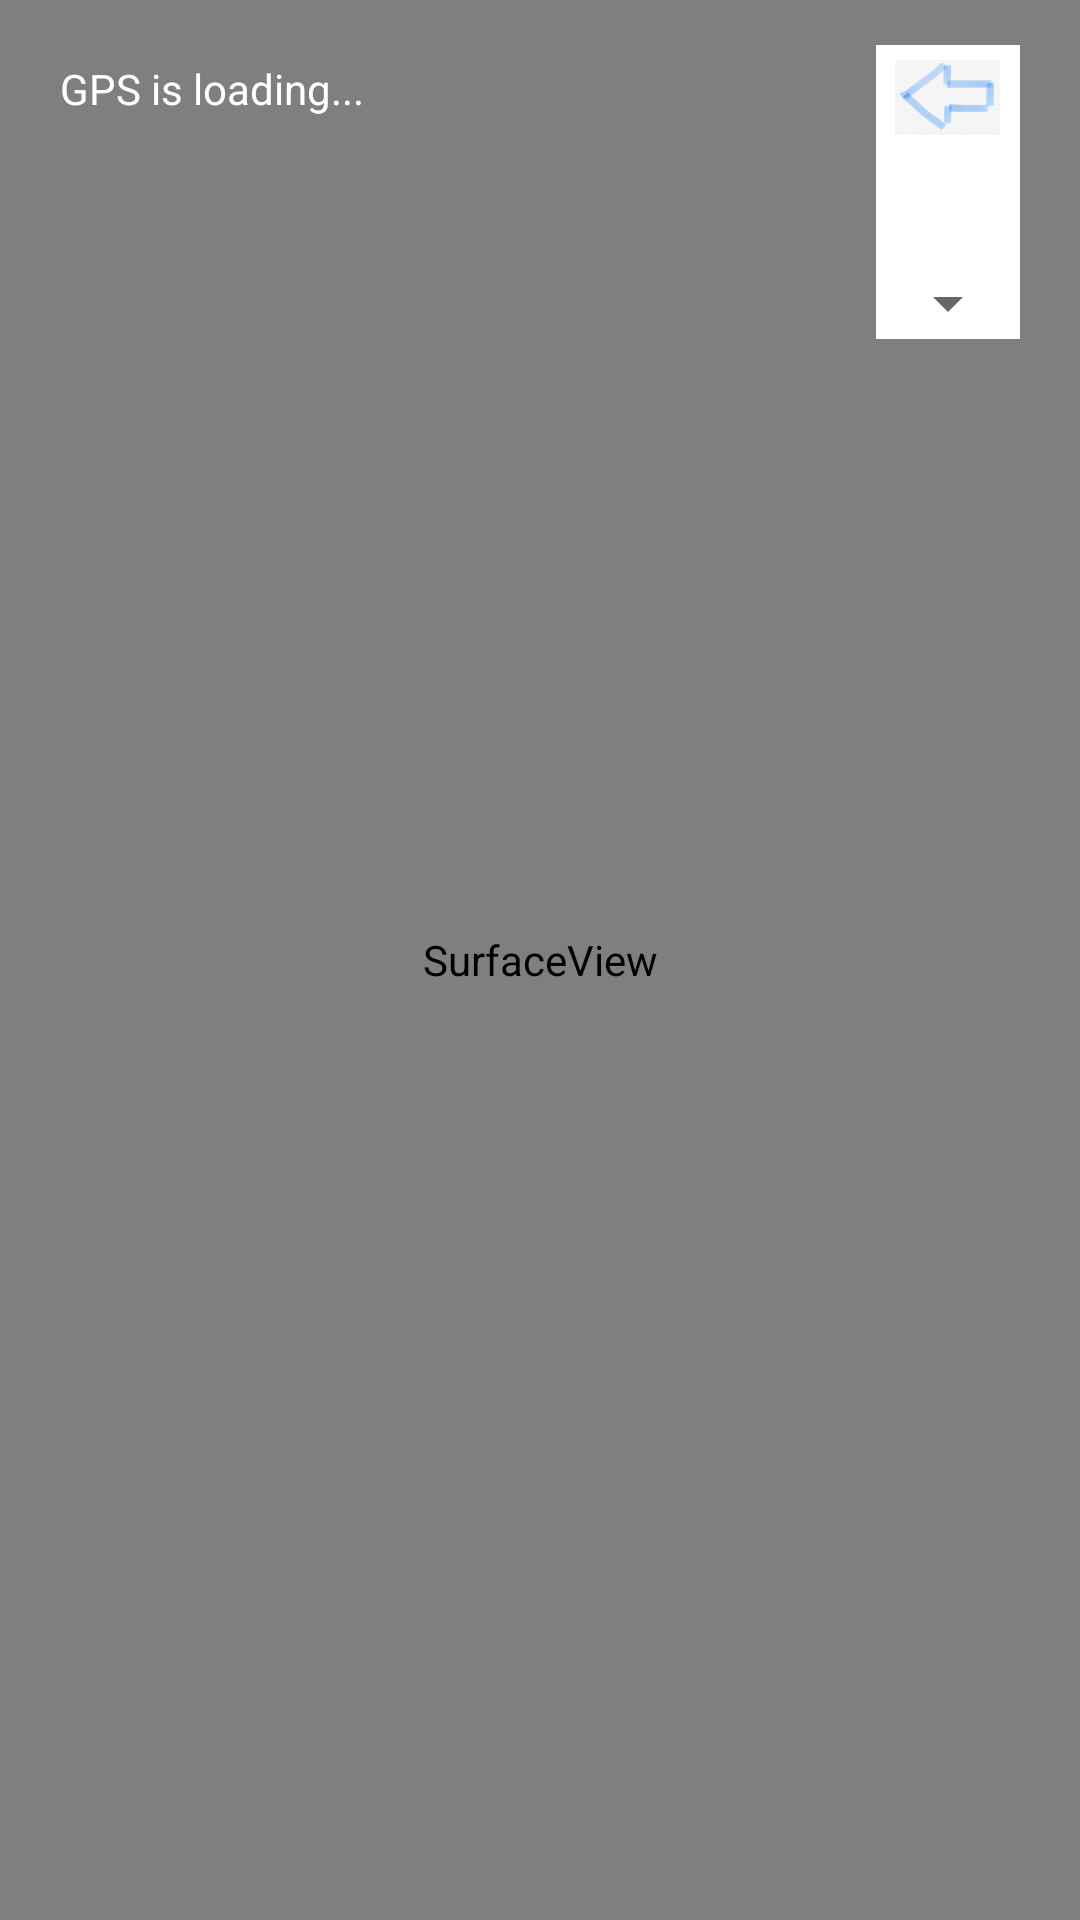

Screen size 1080x1920. Icon name, then its center in pixels as (x,y):
back: (947,97)
